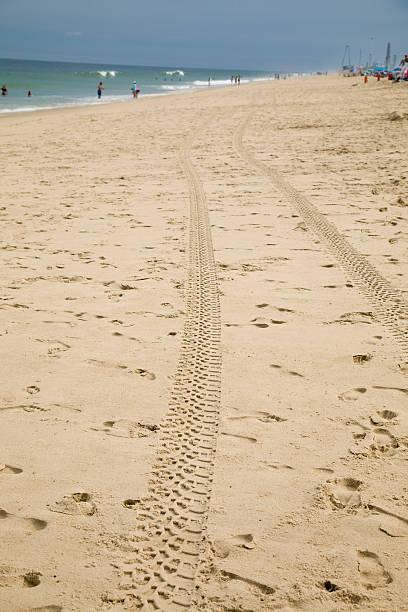vehicle_track: (121, 143, 220, 611), (234, 117, 407, 359)
